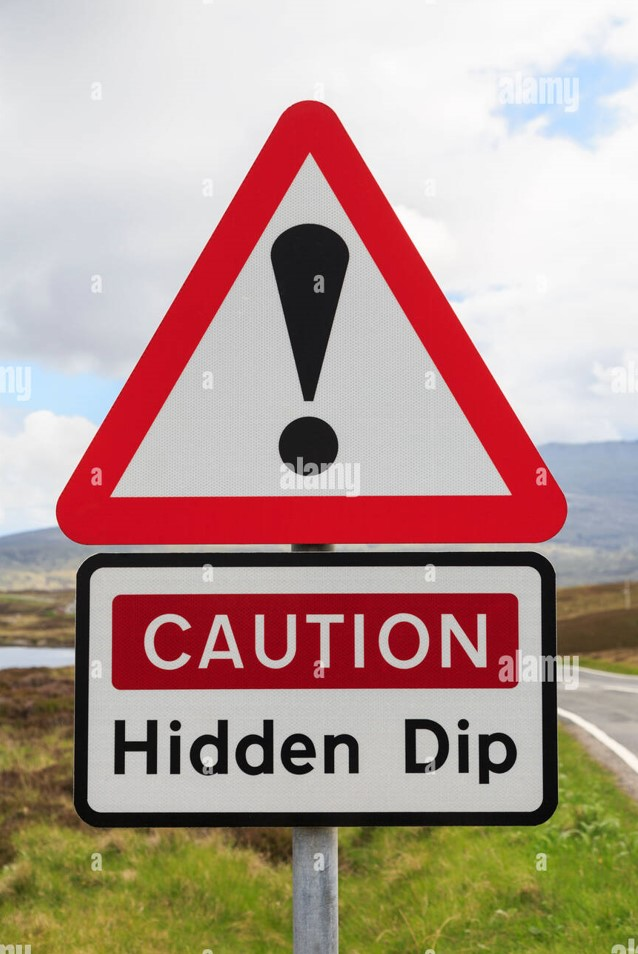Danger: (50, 95, 571, 550)
